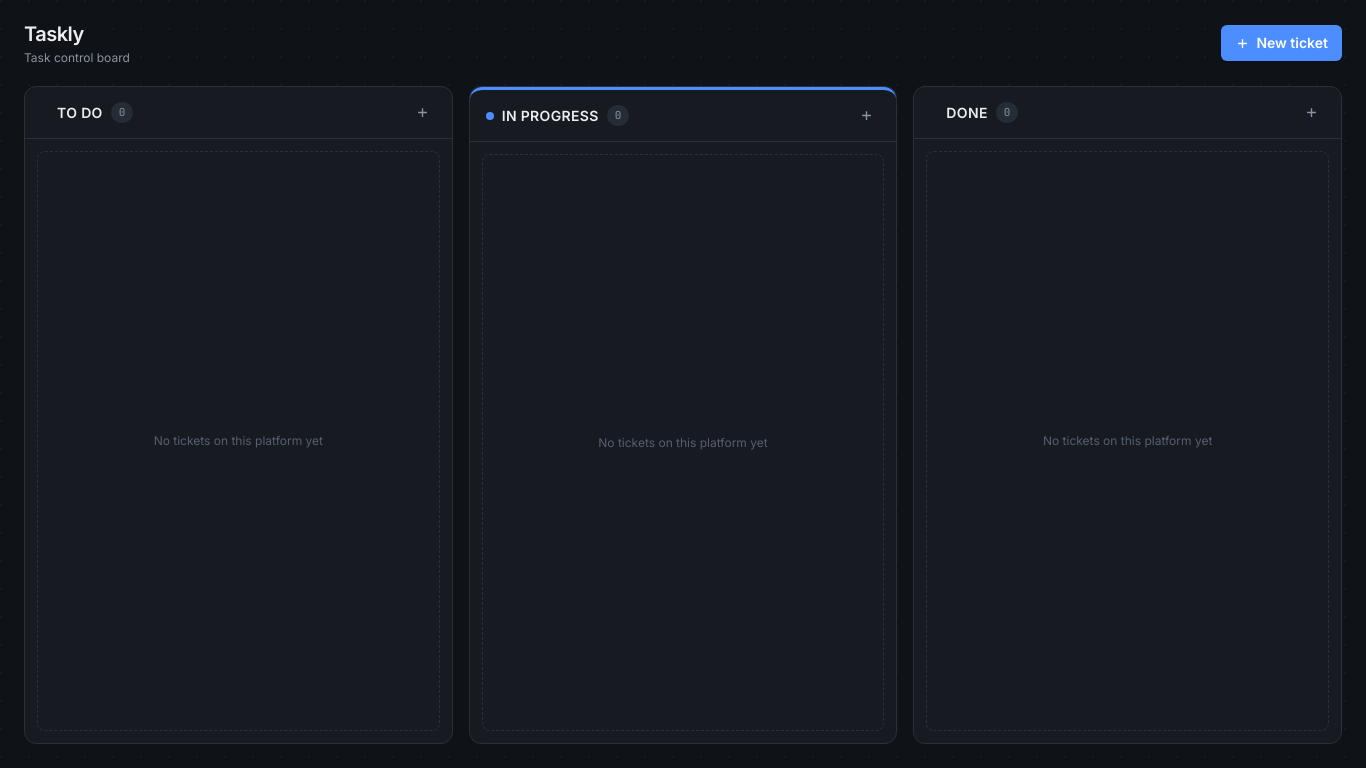
Scenario: creating a task via the UI › adds a new task card to the column it was created in
Click the button named "Add task to To Do" at point(422, 112), box [409,99,436,126]
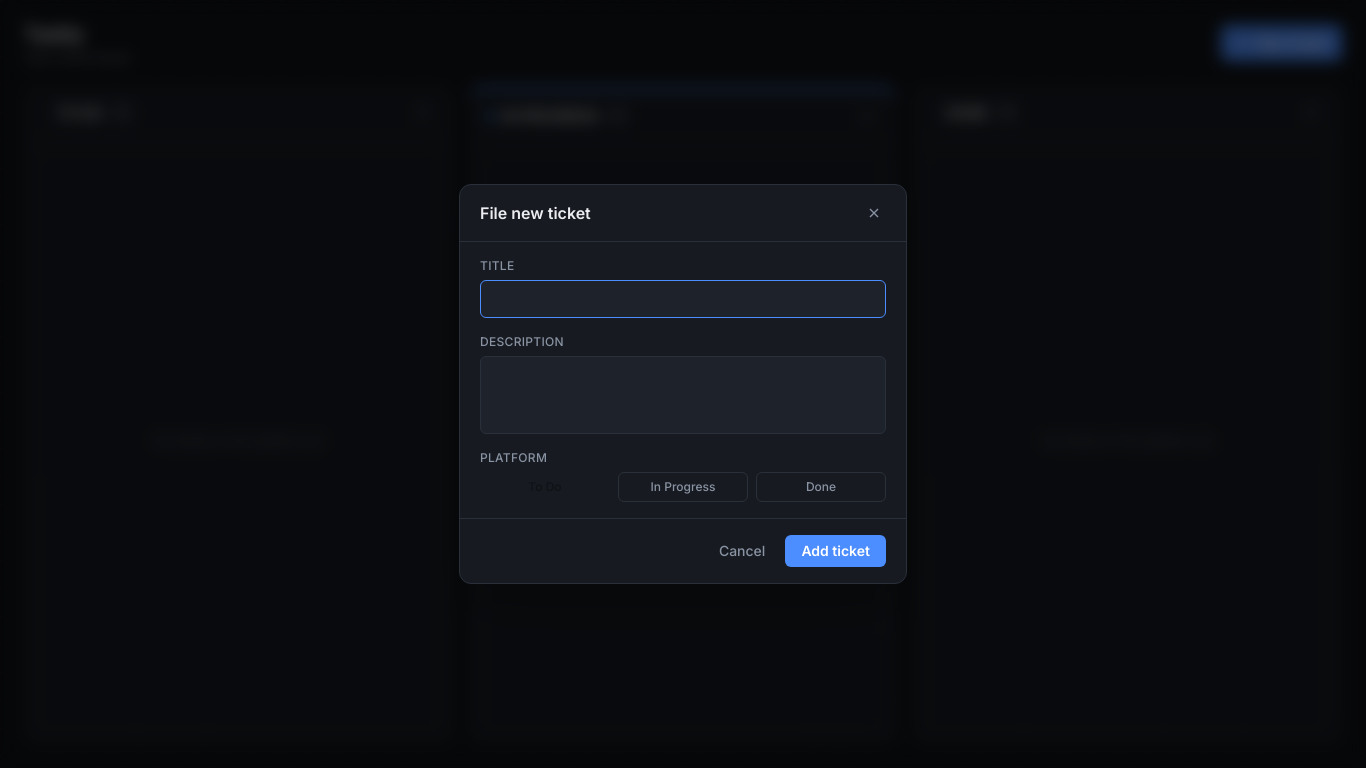
Type "Write integration tests" into the field labelled "Title" at point(683, 299), box [480,280,886,318]
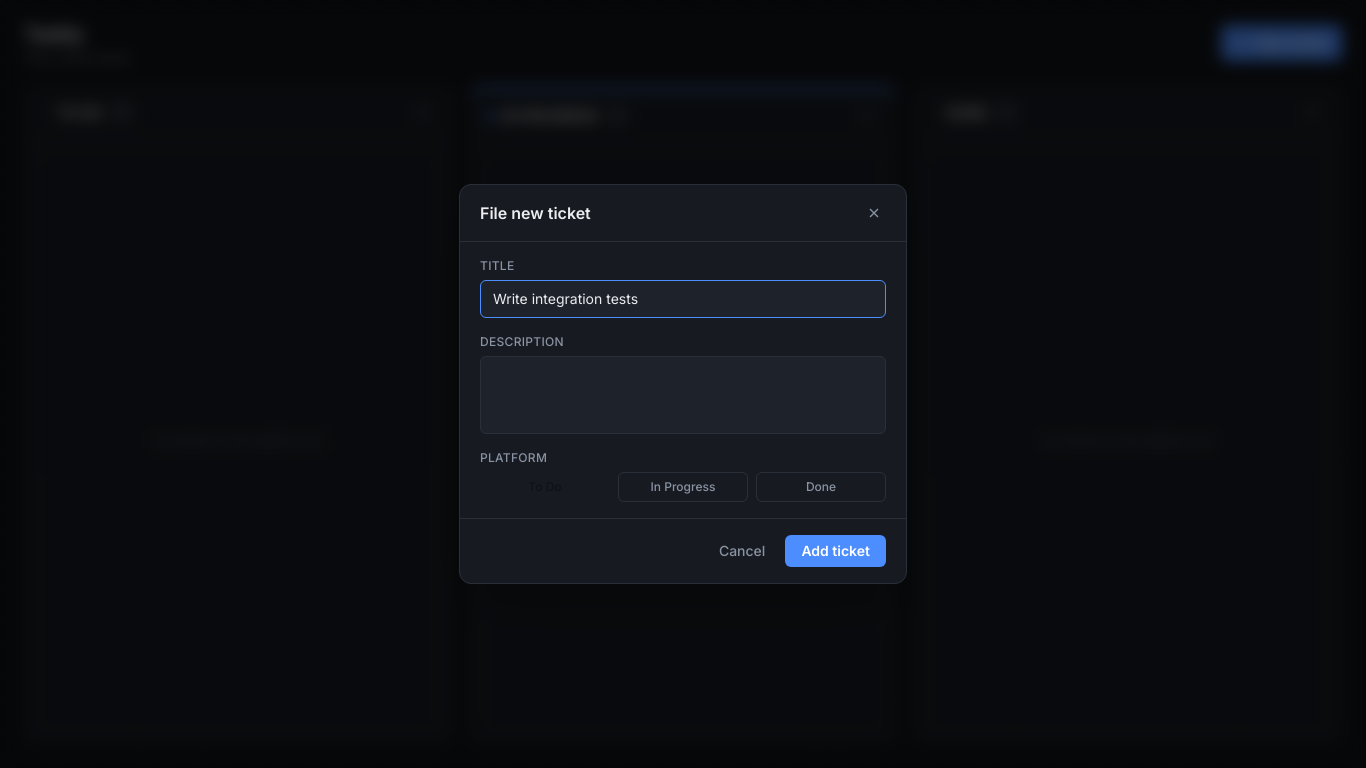
Click the button "Add ticket" at point(836, 551), box [785,535,886,567]
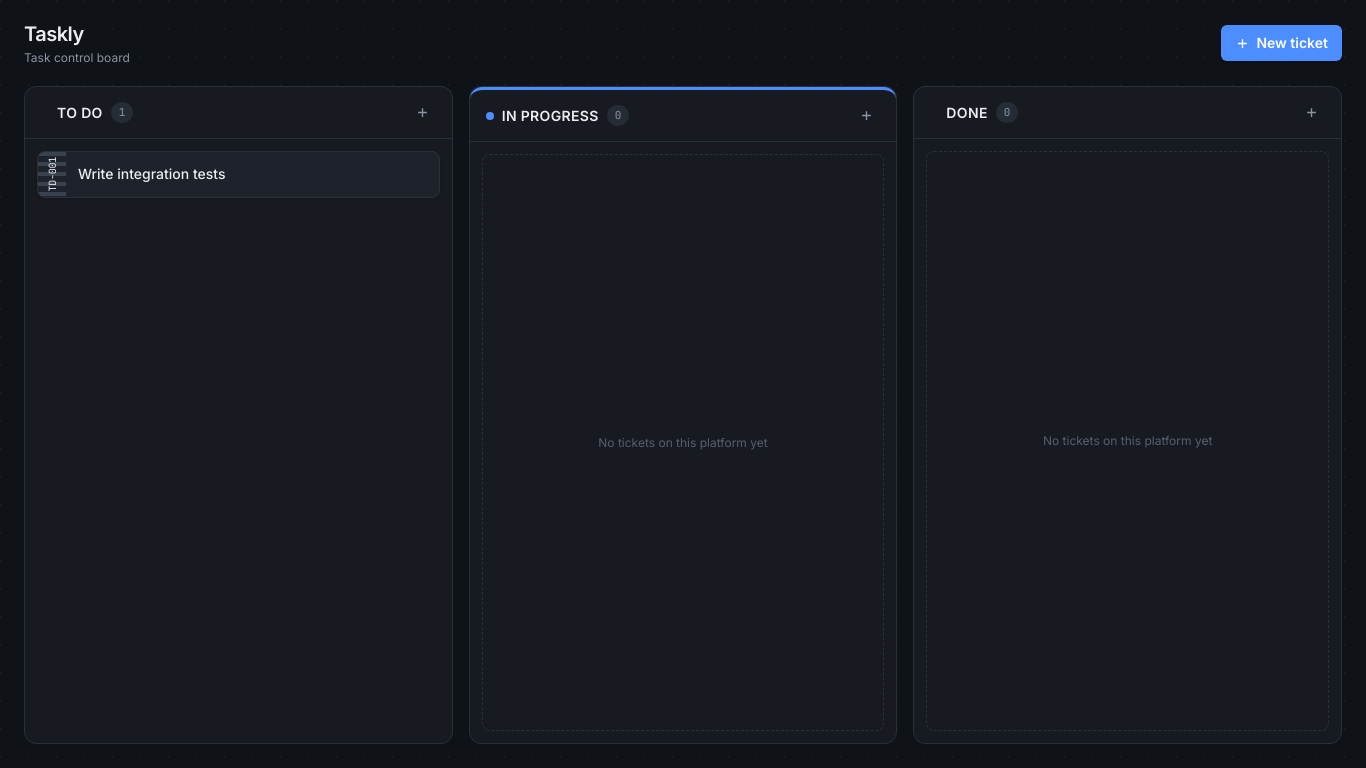
Expected: the heading "Write integration tests" is shown, [78,164,226,183]
